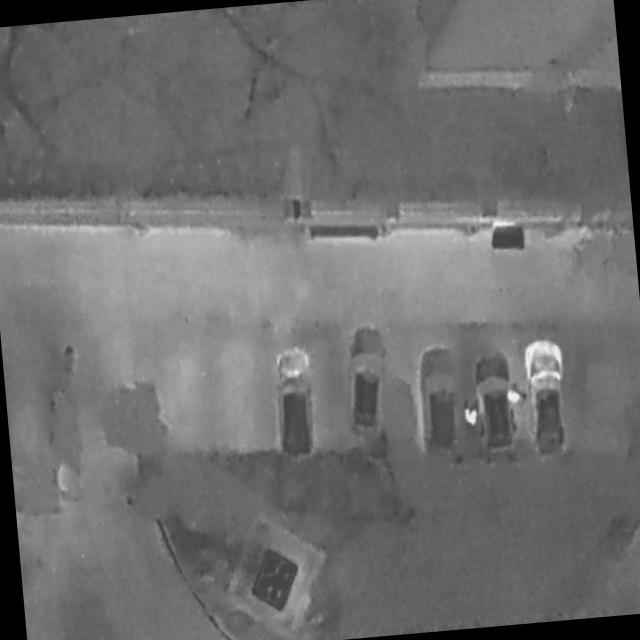person: (507, 387, 524, 411), (463, 407, 479, 428)
